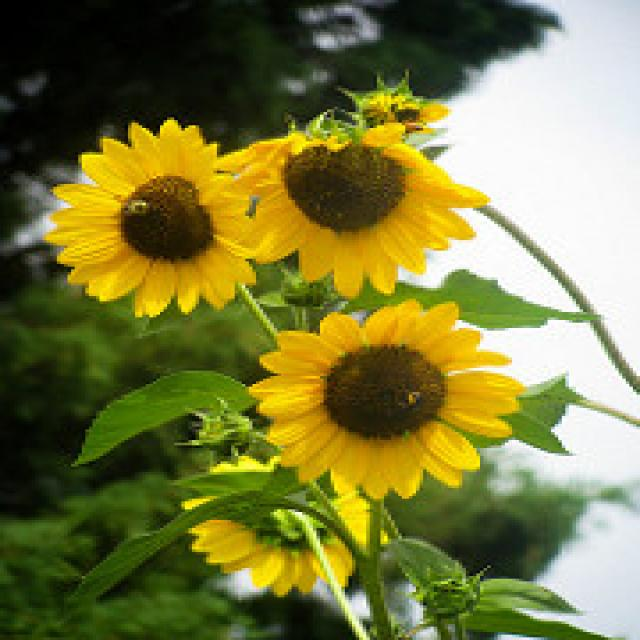sunflower: (242, 299, 533, 504), (34, 106, 268, 322), (215, 121, 496, 298), (171, 450, 398, 602)
